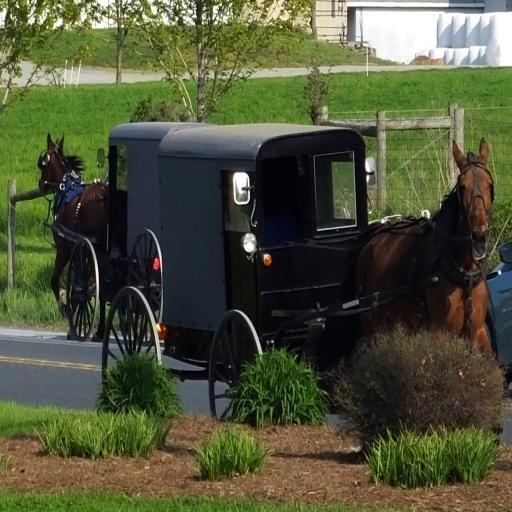horse: (356, 136, 494, 358), (38, 130, 130, 340)
